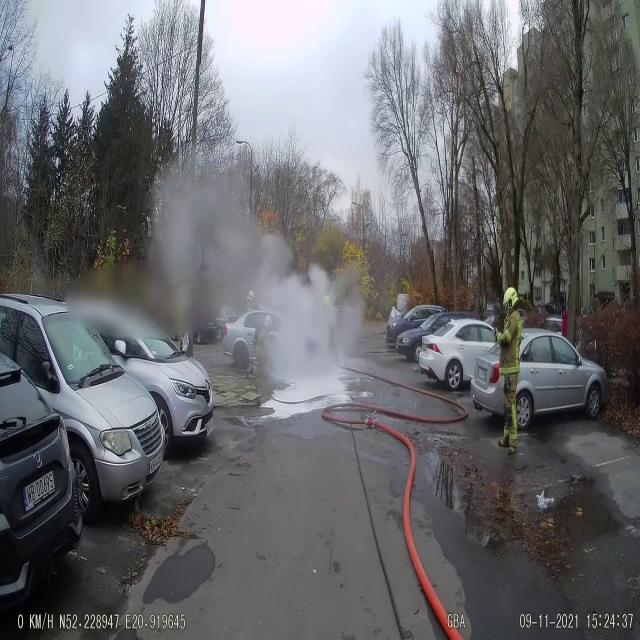Smoke: (144, 137, 365, 410)
